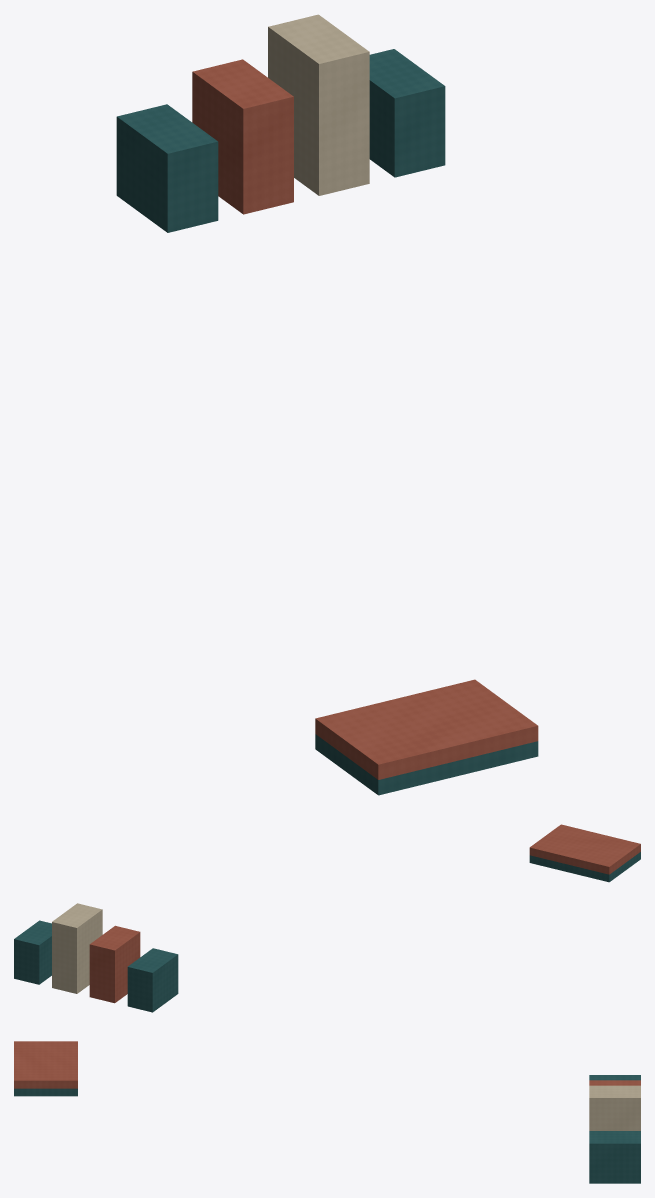
File: detail_props.glb
3 views of the same model, one above another, from view 1: azimuth 30°, elevation 25°; view 2: azimuth 150°, elevation 25°; view 3: azimuth 270°, elevation 25° (orthographic). The views are drawn at different scales.
Parts seen in each view (by area): view 1: SUI_DeskBook_2, SUI_TableBook_1, SUI_DeskBook_1, SUI_DeskBook_0, SUI_DeskBook_3, SUI_TableBook_0; view 2: SUI_DeskBook_2, SUI_TableBook_1, SUI_DeskBook_1, SUI_DeskBook_0, SUI_DeskBook_3, SUI_TableBook_0; view 3: SUI_TableBook_1, SUI_DeskBook_3, SUI_DeskBook_2, SUI_TableBook_0, SUI_DeskBook_0, SUI_DeskBook_1.
Boxes of the visible parts, bbox=[...] form: SUI_DeskBook_2: bbox=[268, 14, 369, 195]; SUI_TableBook_1: bbox=[315, 679, 538, 779]; SUI_DeskBook_1: bbox=[192, 59, 293, 214]; SUI_DeskBook_0: bbox=[116, 104, 218, 232]; SUI_DeskBook_3: bbox=[369, 49, 445, 177]; SUI_TableBook_0: bbox=[315, 734, 538, 795]; SUI_DeskBook_2: bbox=[52, 903, 102, 993]; SUI_TableBook_1: bbox=[529, 824, 640, 874]; SUI_DeskBook_1: bbox=[89, 925, 140, 1003]; SUI_DeskBook_0: bbox=[127, 948, 178, 1012]; SUI_DeskBook_3: bbox=[14, 920, 51, 984]; SUI_TableBook_0: bbox=[529, 852, 640, 882]; SUI_TableBook_1: bbox=[14, 1041, 77, 1088]; SUI_DeskBook_3: bbox=[589, 1131, 640, 1183]; SUI_DeskBook_2: bbox=[589, 1085, 640, 1130]; SUI_TableBook_0: bbox=[14, 1088, 77, 1096]; SUI_DeskBook_0: bbox=[589, 1075, 640, 1080]; SUI_DeskBook_1: bbox=[589, 1080, 640, 1085].
Bounding box in the file's own units: 1.51 × 0.435 × 2.55.
Materials: 3 (3 with a texture image).
